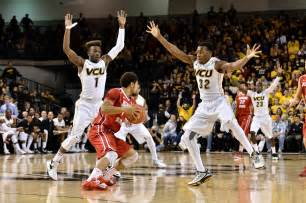basketball: (130, 107, 144, 122)
